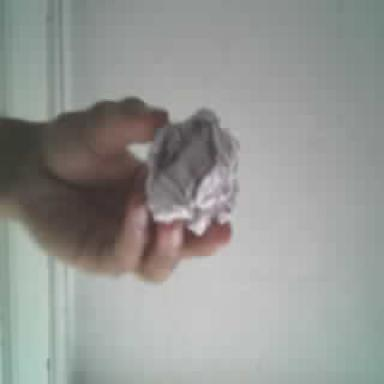paper: (145, 109, 238, 234)
